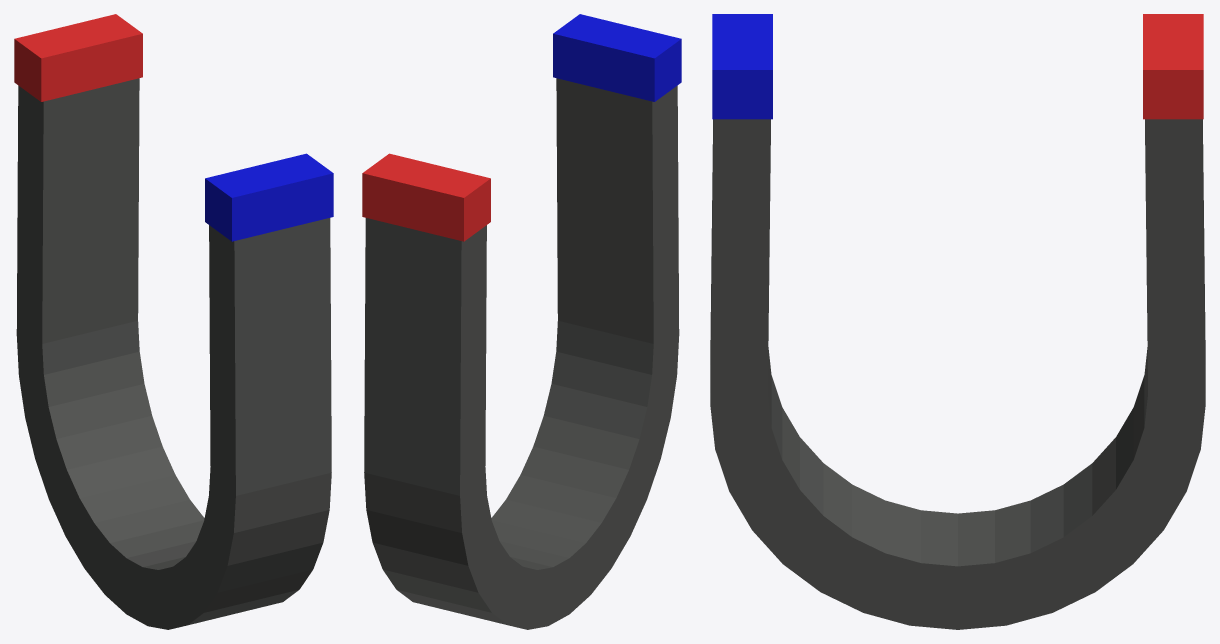
Rendered from MagnetPickUp.fbx.
The picture shows the model from 3 angles, left to right: view 1: azimuth 30°, elevation 25°; view 2: azimuth 150°, elevation 25°; view 3: azimuth 270°, elevation 25°; orthographic projection. The views are drawn at different scales.
Visible parts, largest first — view 1: Cylinder.001, Cube; view 2: Cylinder.001, Cube; view 3: Cylinder.001, Cube.
Part boxes in pixels (x1,y1,x2,y2): Cylinder.001: [16, 78, 331, 629]; Cube: [14, 14, 333, 241]; Cylinder.001: [364, 78, 679, 629]; Cube: [362, 14, 681, 241]; Cylinder.001: [710, 119, 1205, 629]; Cube: [712, 14, 1203, 119].
Size of the model in its own units: 69.76 by 326 by 261.
